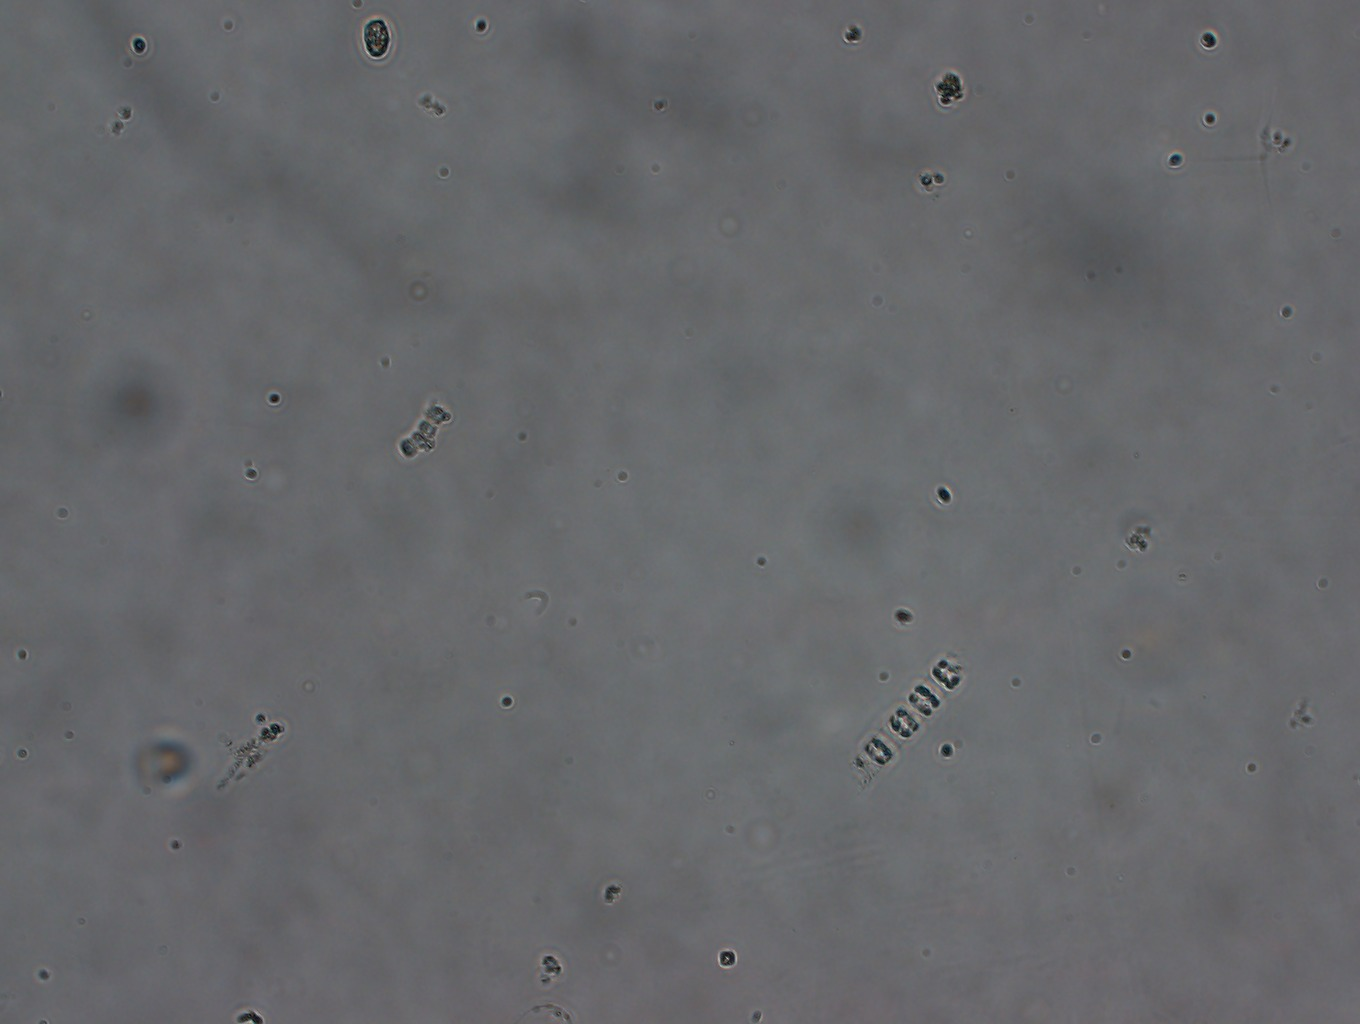skeletonema: (838, 648, 970, 786)
